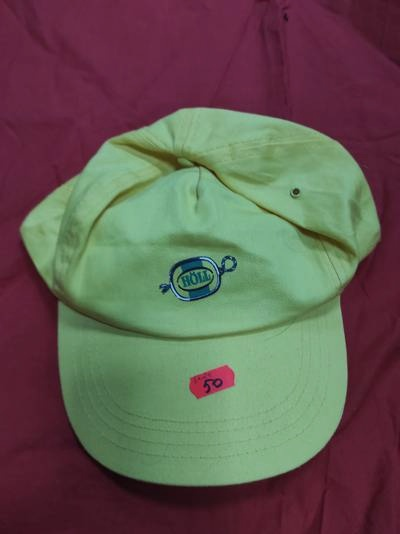Hat: (12, 82, 382, 483)
